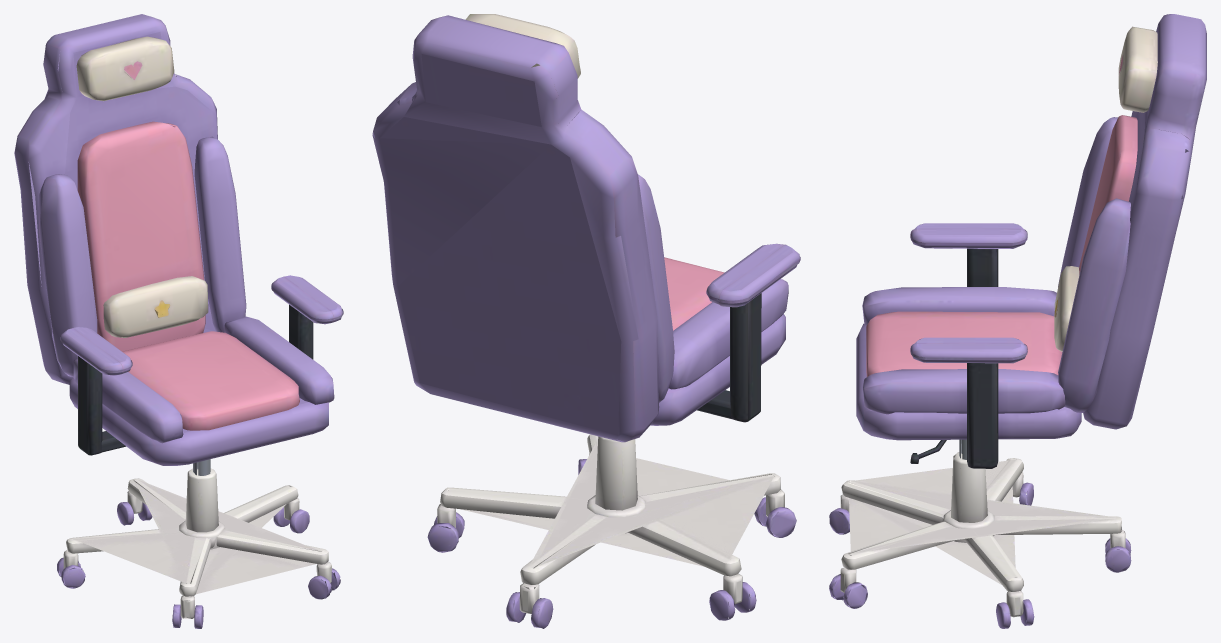
Rendered from gaming-chair.glb.
3 views of the same model, side by side, from view 1: azimuth 30°, elevation 25°; view 2: azimuth 150°, elevation 25°; view 3: azimuth 270°, elevation 25° (orthographic). The views are drawn at different scales.
Parts seen in each view (by area): view 1: gaming-chair_seat, gaming-chair_body; view 2: gaming-chair_seat, gaming-chair_body; view 3: gaming-chair_seat, gaming-chair_body.
Boxes of the visible parts, box(x1,y1,x2,y2) form: gaming-chair_seat: box(14, 14, 343, 475); gaming-chair_body: box(57, 468, 340, 628); gaming-chair_seat: box(372, 14, 800, 442); gaming-chair_body: box(427, 434, 796, 628); gaming-chair_seat: box(856, 14, 1206, 468); gaming-chair_body: box(829, 452, 1131, 628).
Size of the model in its own units: 0.705 by 1.29 by 0.8369.
2 materials, 2 textured.
